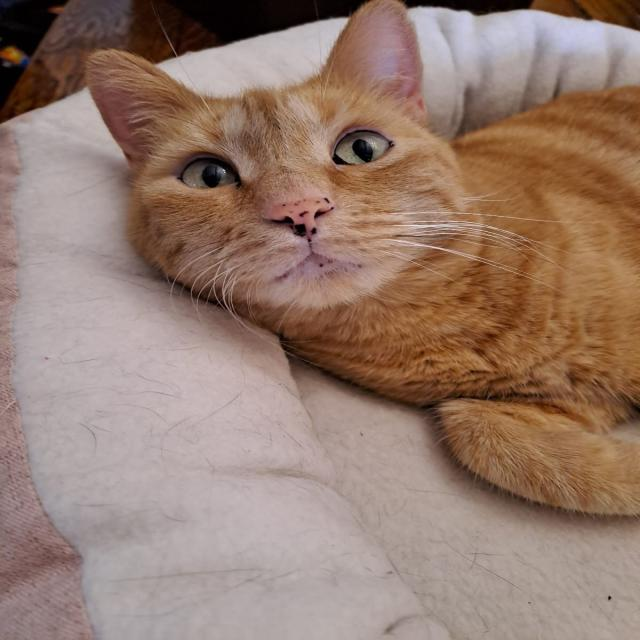sarman: (66, 46, 617, 554)
